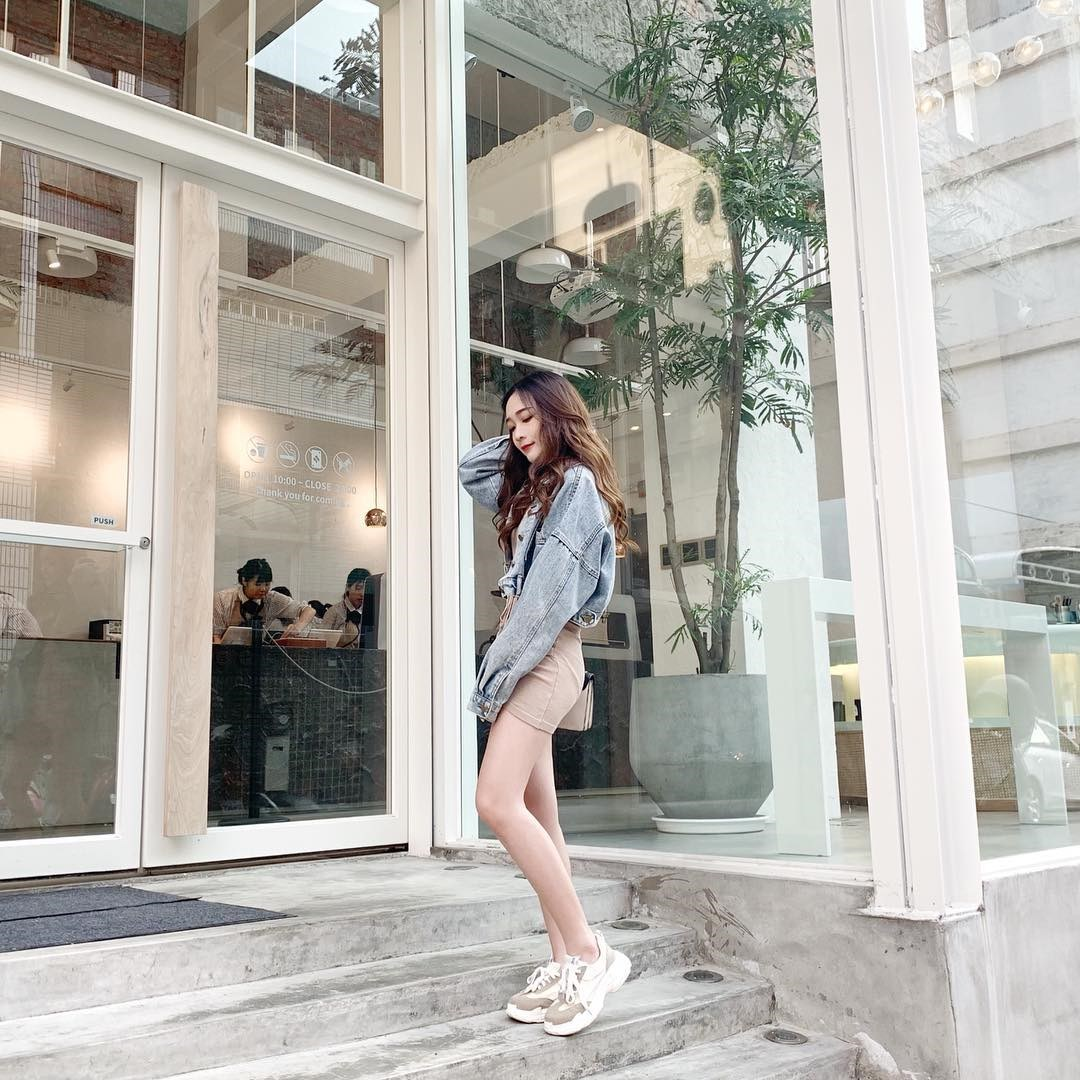people: (465, 373, 634, 1030), (213, 558, 310, 644), (313, 570, 380, 644)
